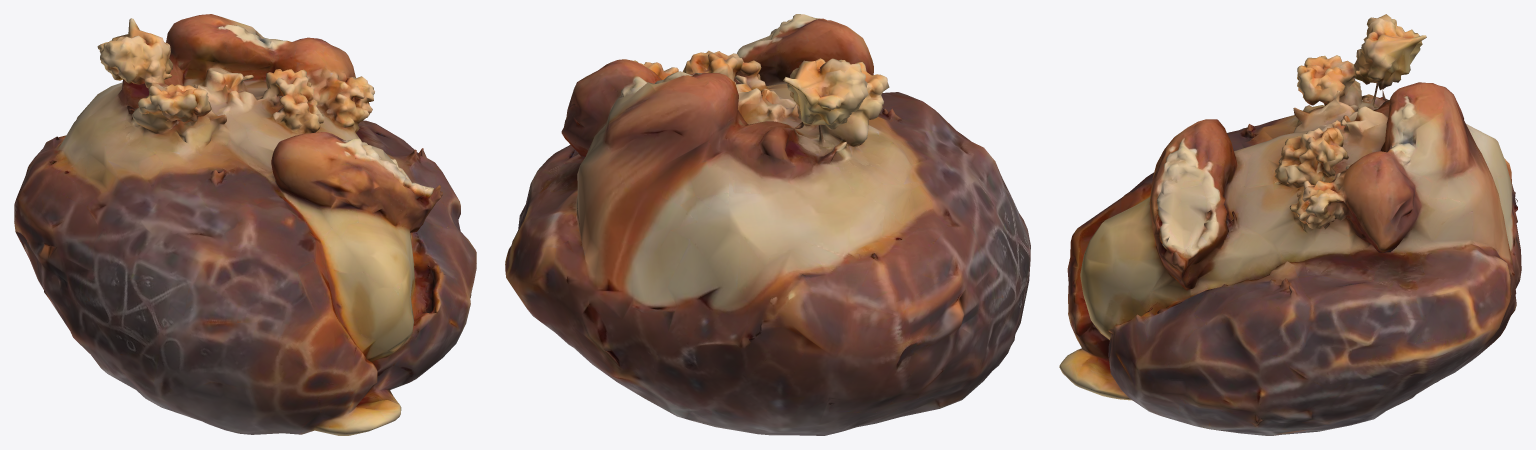
File: corne-de-gazelle.glb
3 renders of one model, left to right at view 1: azimuth 30°, elevation 25°; view 2: azimuth 150°, elevation 25°; view 3: azimuth 270°, elevation 25°, orthographic. The views are drawn at different scales.
Size of the model in its own units: 1.85 by 1.61 by 2.
1 material, 1 textured.
